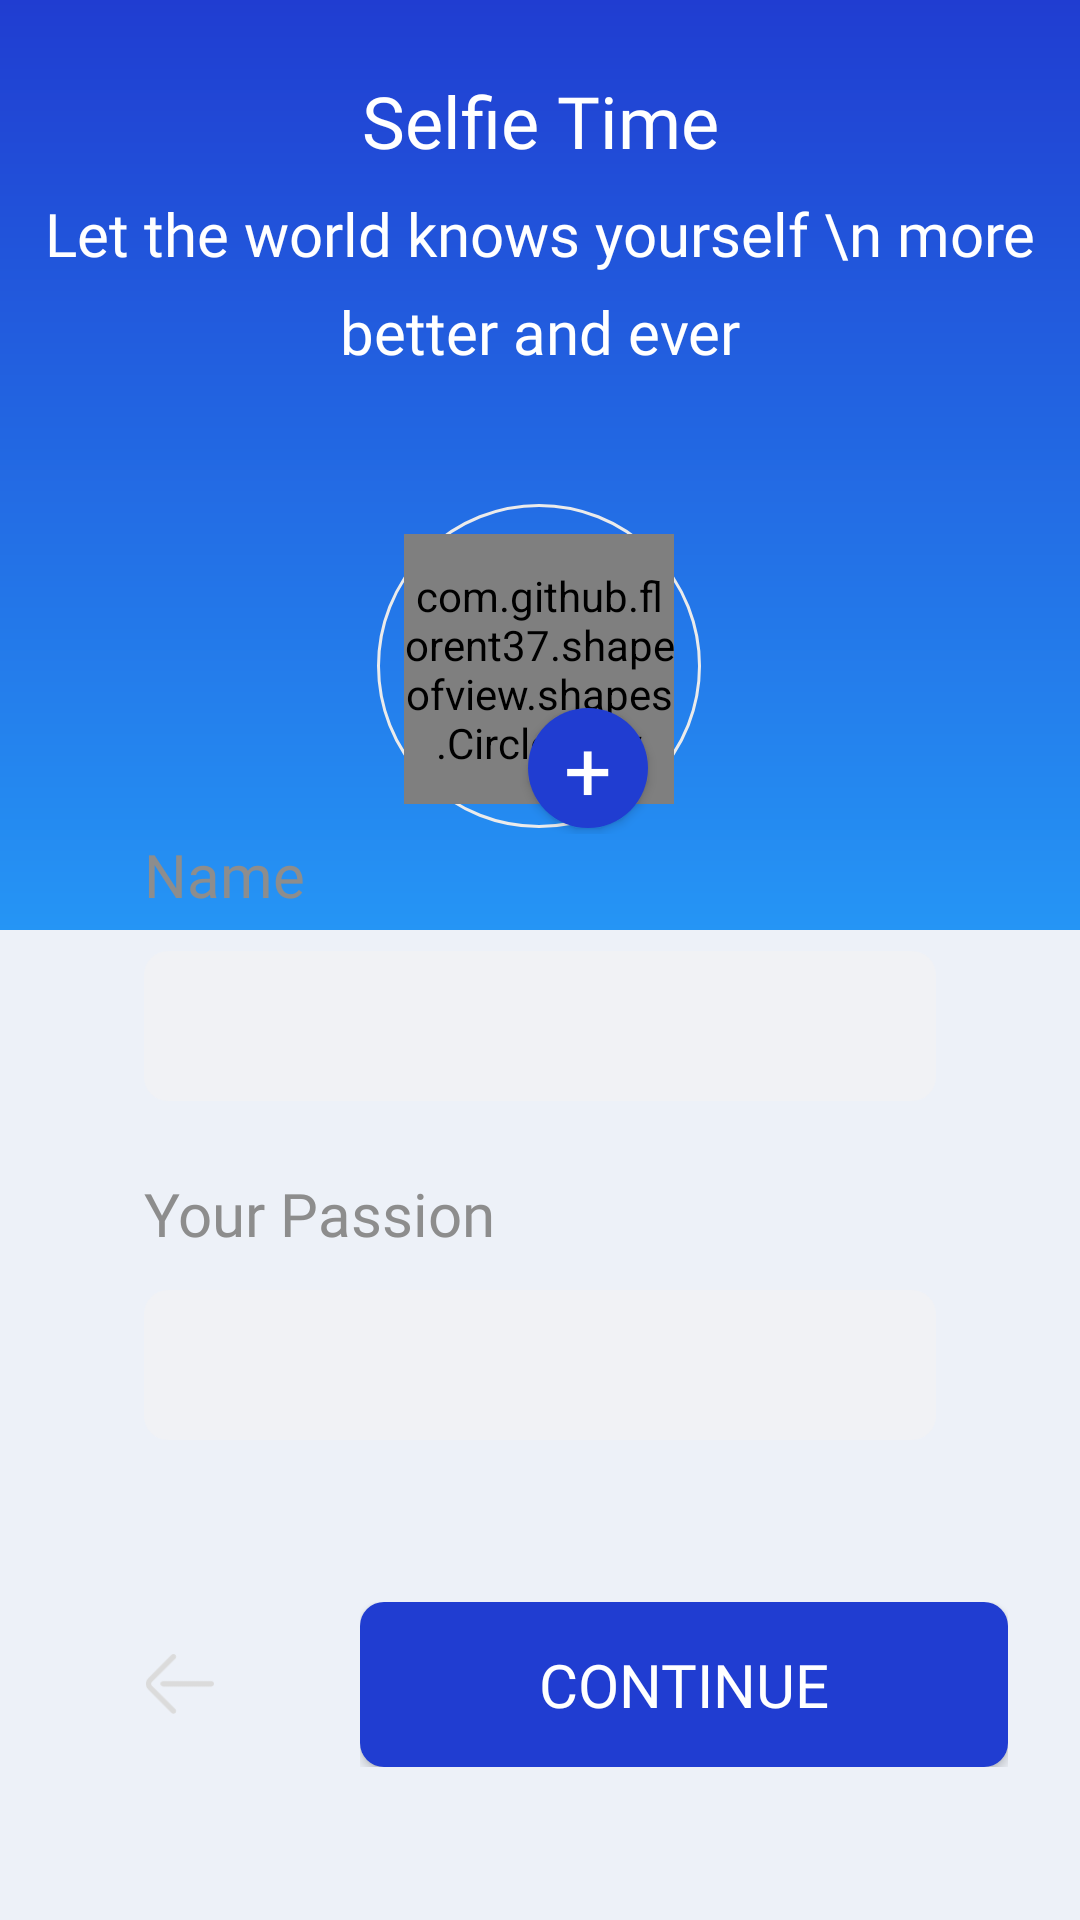

Icons on this 1080 x 1920 Android screen, each with the point to tap as point (x, y):
back: point (180, 1683)
